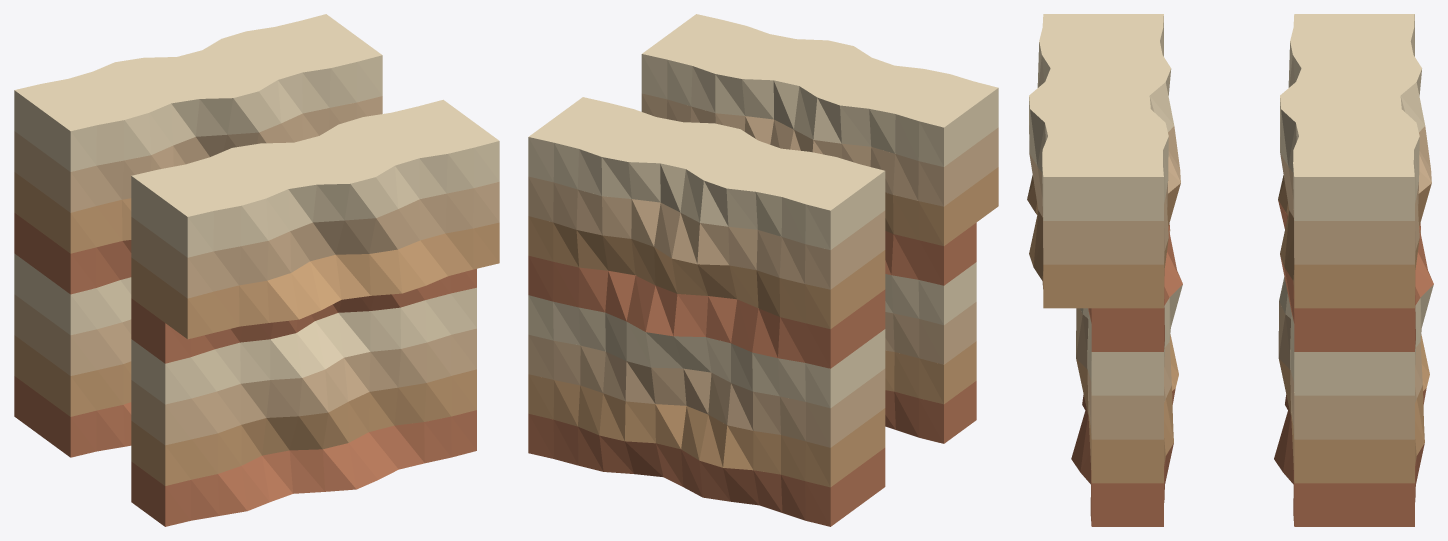
The model's file is desert-canyons-and-oases-slot-canyon-wall-pair-7b14e15c__20907.glb.
3 renders of one model, left to right at view 1: azimuth 30°, elevation 25°; view 2: azimuth 150°, elevation 25°; view 3: azimuth 270°, elevation 25°, orthographic. The views are drawn at different scales.
Visible parts, largest first — view 1: slot-canyon-wall-pair; view 2: slot-canyon-wall-pair; view 3: slot-canyon-wall-pair.
Part boxes in pixels (x1,y1,x2,y2): slot-canyon-wall-pair: [14, 14, 499, 526]; slot-canyon-wall-pair: [528, 14, 998, 526]; slot-canyon-wall-pair: [1027, 14, 1433, 526].
Bounding box in the file's own units: 4 × 4 × 4.22.
